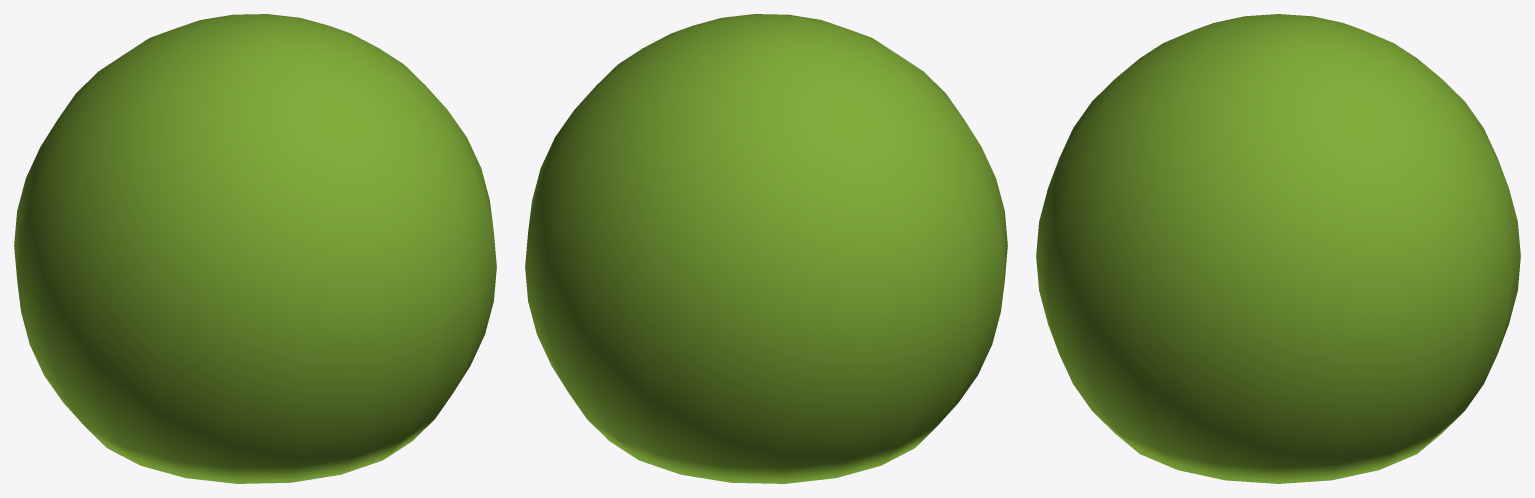
File: bush4.fbx
The picture shows the model from 3 angles, left to right: view 1: azimuth 30°, elevation 25°; view 2: azimuth 150°, elevation 25°; view 3: azimuth 270°, elevation 25°; orthographic projection.
Visible parts, largest first — view 1: pSphere1; view 2: pSphere1; view 3: pSphere1.
Boxes of the visible parts, bbox=[...] form: pSphere1: bbox=[14, 14, 496, 483]; pSphere1: bbox=[525, 14, 1007, 483]; pSphere1: bbox=[1036, 14, 1520, 483].
Bounding box in the file's own units: 5.05 × 4.37 × 5.05.
